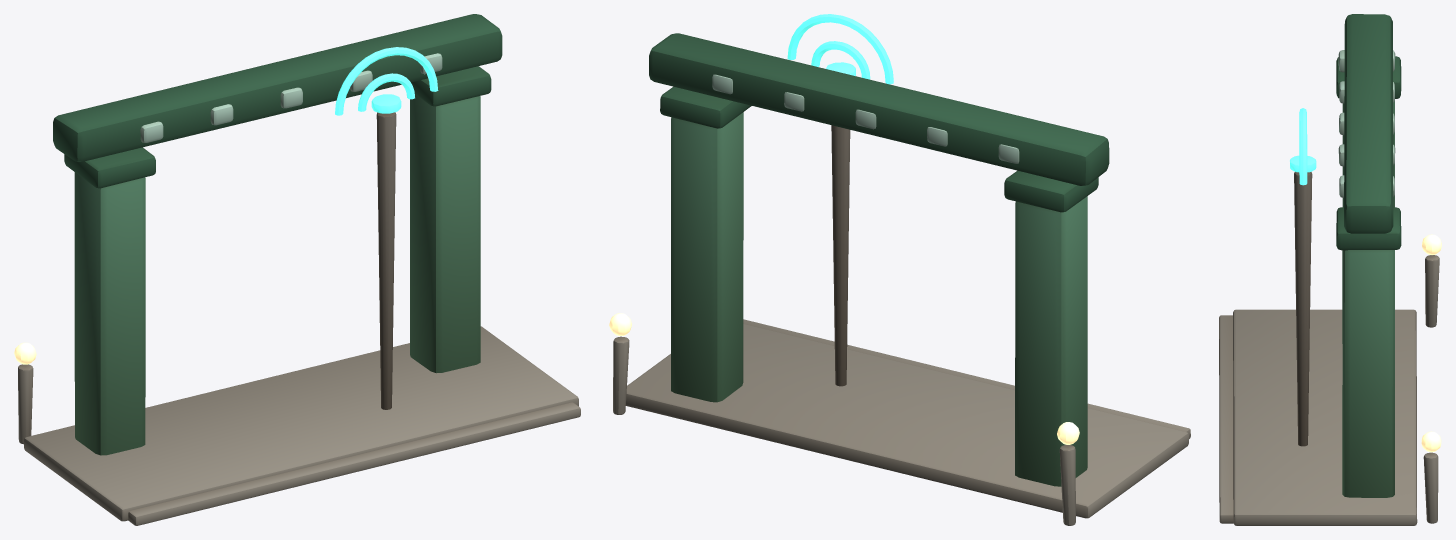
3 views of the same model, side by side, from view 1: azimuth 30°, elevation 25°; view 2: azimuth 150°, elevation 25°; view 3: azimuth 270°, elevation 25° (orthographic). The views are drawn at different scales.
Visible parts, largest first — view 1: gate_f6a1919e; view 2: gate_f6a1919e; view 3: gate_f6a1919e.
Part boxes in pixels (<box>): gate_f6a1919e: <box>14,14,580,525</box>; gate_f6a1919e: <box>609,14,1190,525</box>; gate_f6a1919e: <box>1219,14,1441,525</box>.
Bounding box in the file's own units: 5.59 × 4.35 × 2.55.
